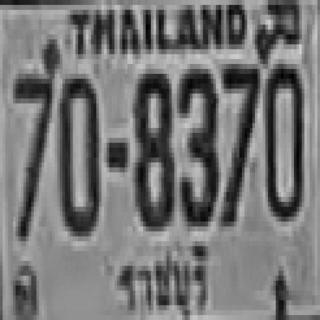N00: (58, 74, 98, 231), (263, 59, 302, 216)
N03: (177, 64, 216, 222)
N07: (12, 69, 53, 236), (221, 59, 258, 222)
N08: (133, 69, 172, 226)
P52: (111, 238, 214, 319)
